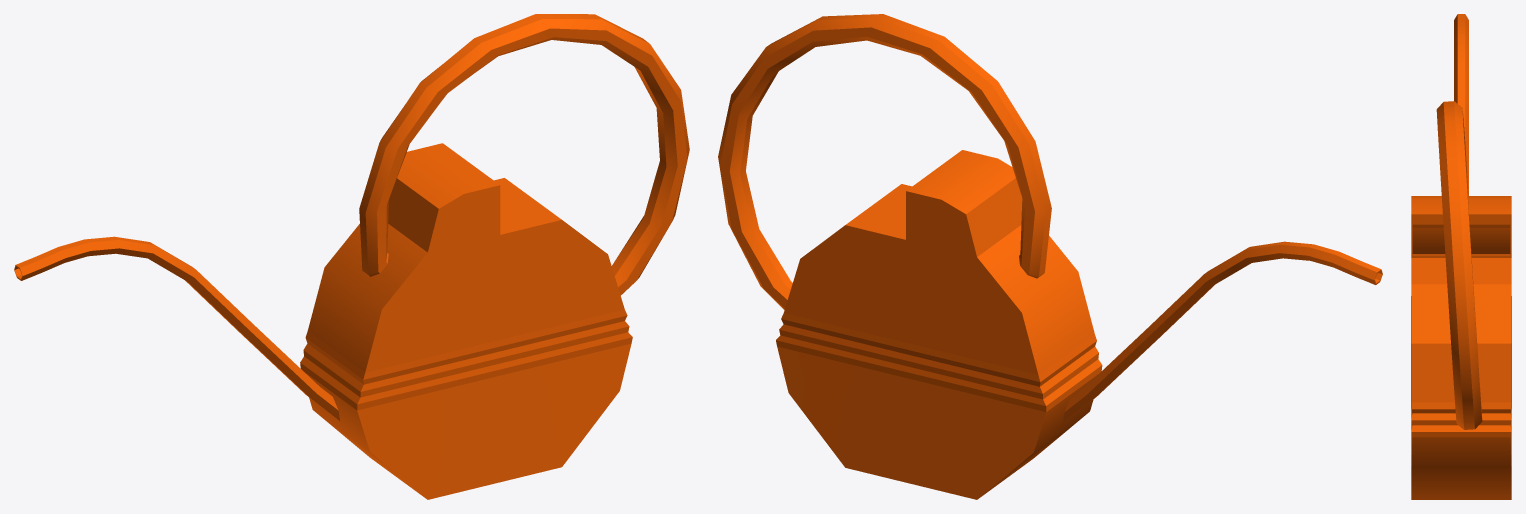
File: Watering_Can.fbx
The picture shows the model from 3 angles, left to right: view 1: azimuth 30°, elevation 25°; view 2: azimuth 150°, elevation 25°; view 3: azimuth 270°, elevation 25°; orthographic projection. The views are drawn at different scales.
Parts seen in each view (by area): view 1: Watering_Can; view 2: Watering_Can; view 3: Watering_Can.
Part boxes in pixels (x1,y1,x2,y2): Watering_Can: (14, 14, 689, 499); Watering_Can: (718, 14, 1382, 499); Watering_Can: (1411, 14, 1511, 499).
Bounding box in the file's own units: 89.68 × 55.64 × 13.38.
